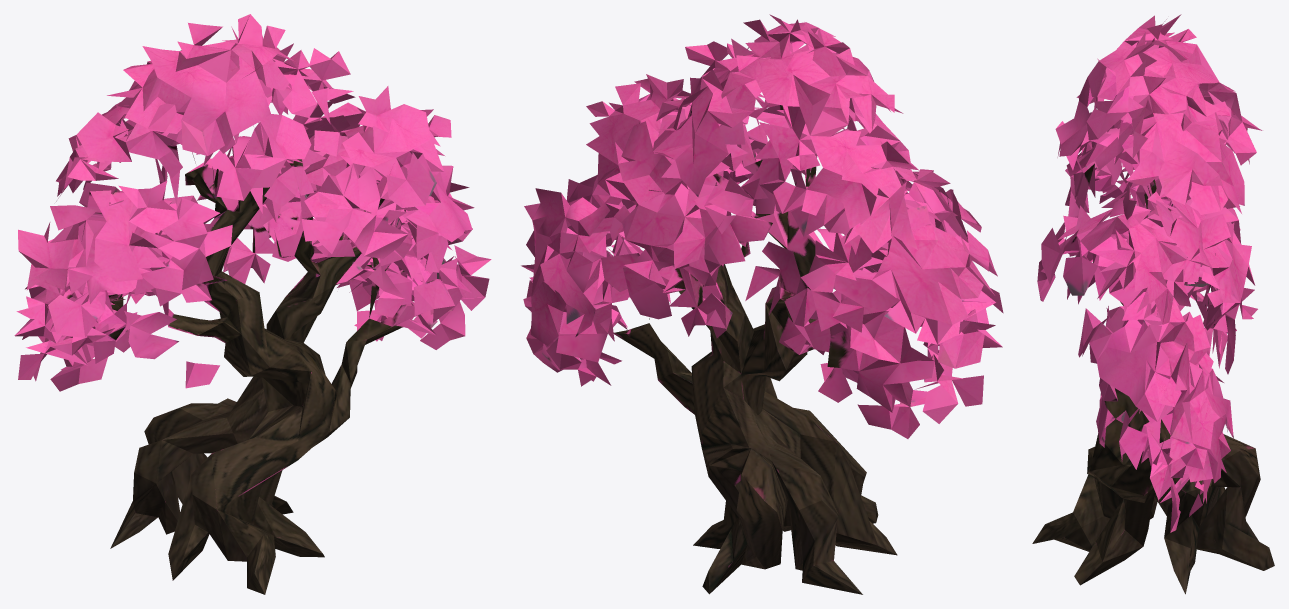
File: tree_blossom.glb
The picture shows the model from 3 angles, left to right: view 1: azimuth 30°, elevation 25°; view 2: azimuth 150°, elevation 25°; view 3: azimuth 270°, elevation 25°; orthographic projection.
Size of the model in its own units: 1.79 by 1.89 by 0.7899.
Materials: 1 (1 with a texture image).
